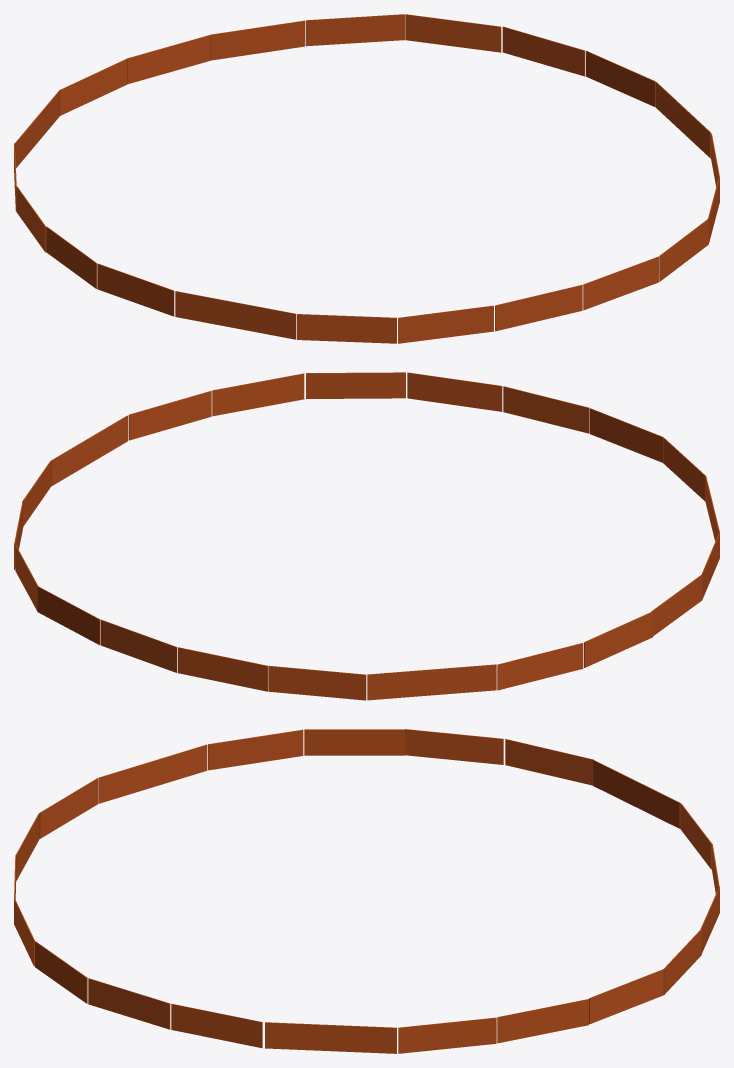
File: sick_robot_day_2014.dae
3 views of the same model, one above another, from view 1: azimuth 30°, elevation 25°; view 2: azimuth 150°, elevation 25°; view 3: azimuth 270°, elevation 25° (orthographic).
Visible parts, largest first — view 1: BoundaryBank_002; view 2: BoundaryBank_002; view 3: BoundaryBank_002.
Part boxes in pixels (bbox=[...]): BoundaryBank_002: bbox=[14, 14, 719, 343]; BoundaryBank_002: bbox=[14, 372, 719, 700]; BoundaryBank_002: bbox=[14, 729, 719, 1053].
Bounding box in the file's own units: 12.39 × 12.37 × 0.5.
